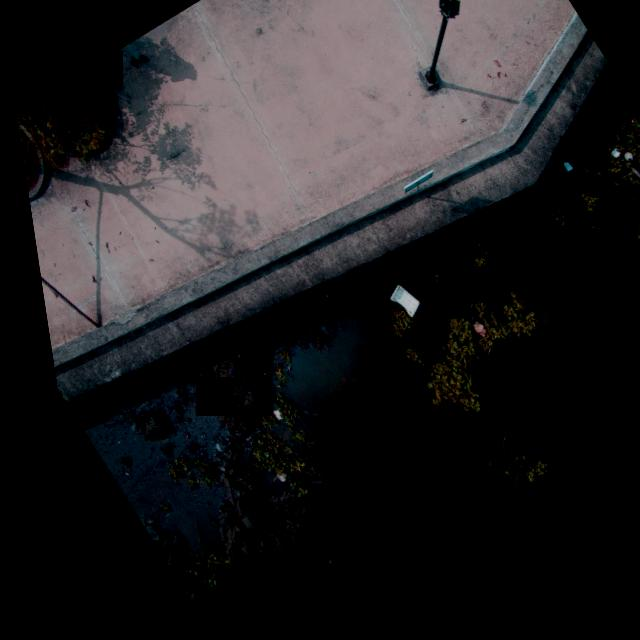plastic: (374, 284, 421, 333), (455, 328, 483, 361), (254, 465, 279, 493), (598, 155, 619, 181), (549, 167, 572, 188), (254, 408, 275, 431), (614, 162, 632, 180), (199, 443, 211, 459)
